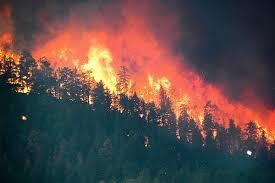fire: (11, 22, 275, 140)
